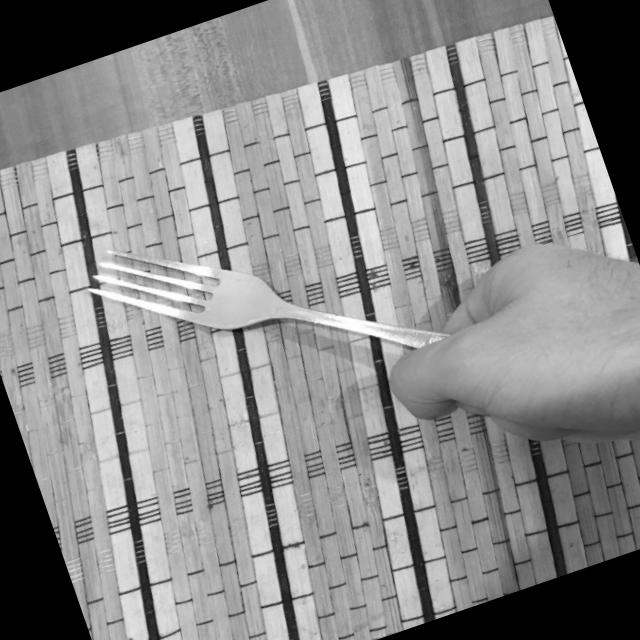fork: (72, 134, 514, 468)
